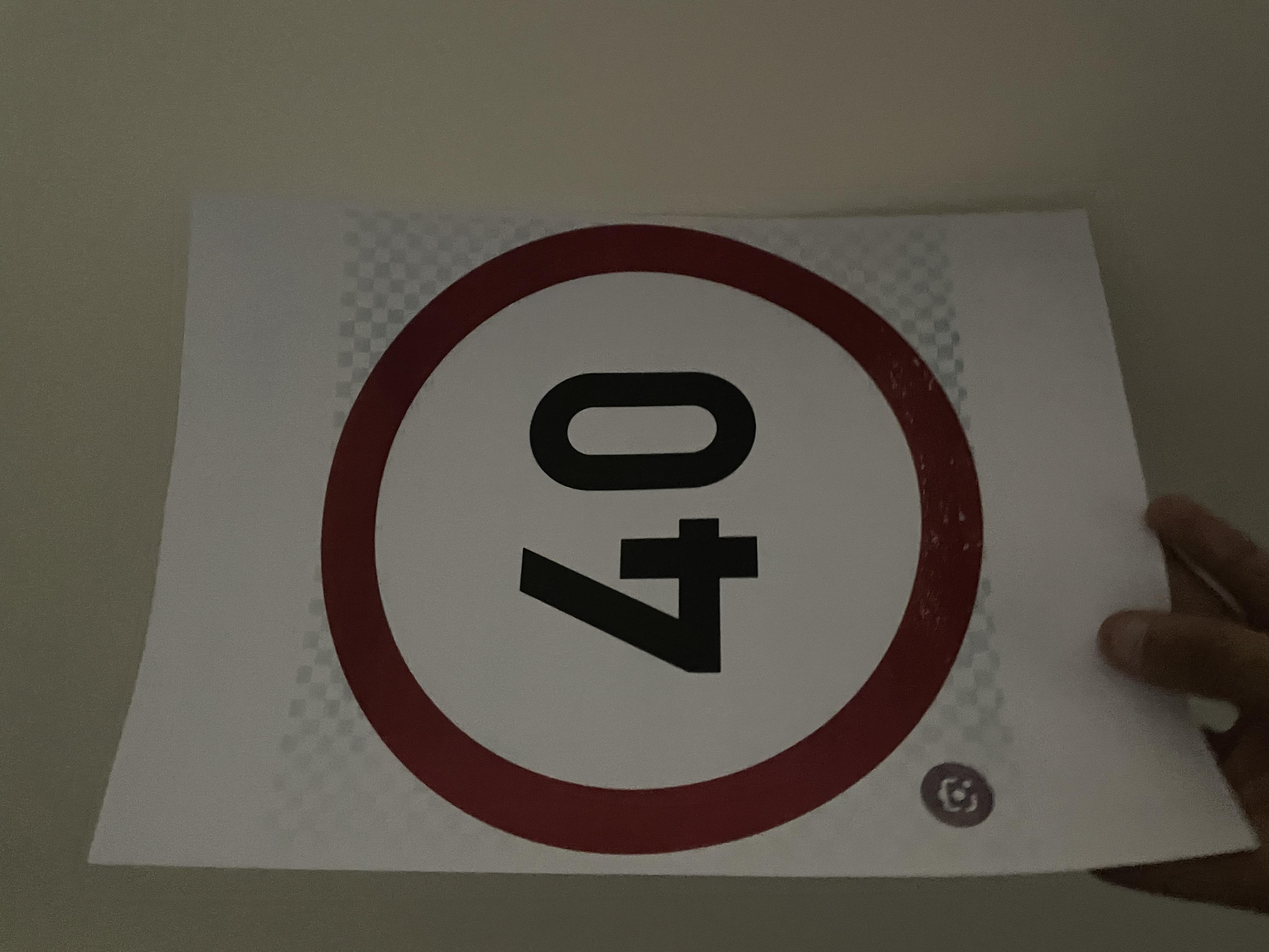40-Speed: (135, 222, 976, 745)
